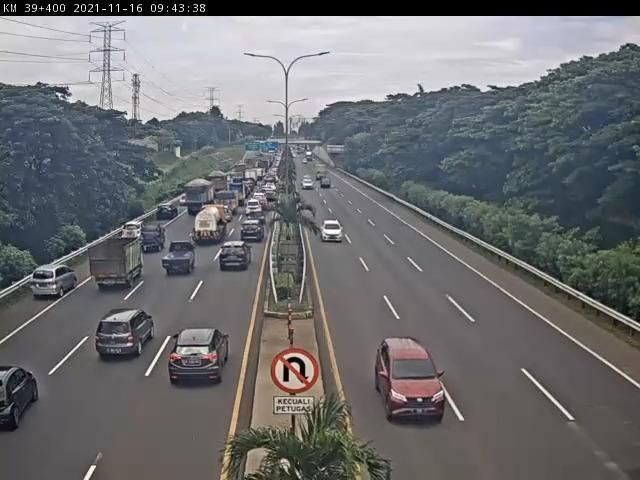car: (363, 327, 459, 433), (169, 324, 230, 387), (1, 353, 43, 438), (22, 257, 85, 311), (96, 306, 155, 362), (153, 234, 206, 286), (210, 235, 260, 281), (312, 213, 355, 254), (132, 219, 175, 256), (147, 197, 183, 234), (234, 218, 270, 254), (111, 217, 153, 246), (239, 195, 269, 223), (243, 208, 269, 236), (171, 187, 193, 213)
truck: (81, 225, 154, 299), (181, 201, 235, 253), (184, 180, 219, 215), (216, 194, 243, 220)
